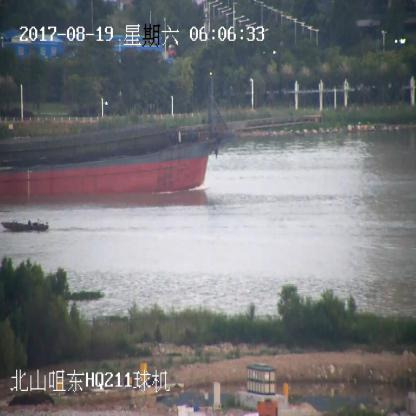Bulk Carrier: (0, 76, 322, 204)
